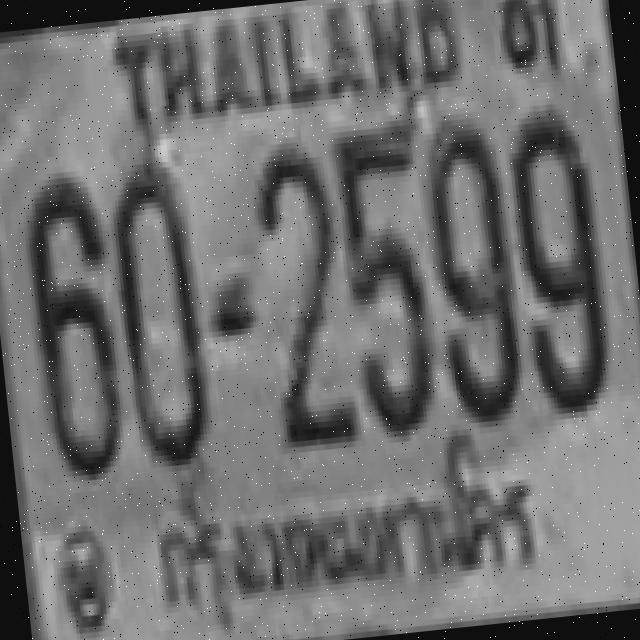0: (102, 154, 210, 463)
2: (248, 140, 354, 448)
5: (328, 119, 438, 434)
6: (18, 169, 124, 478)
9: (502, 104, 610, 413), (418, 113, 523, 422)
Bangkok: (139, 456, 561, 640)
